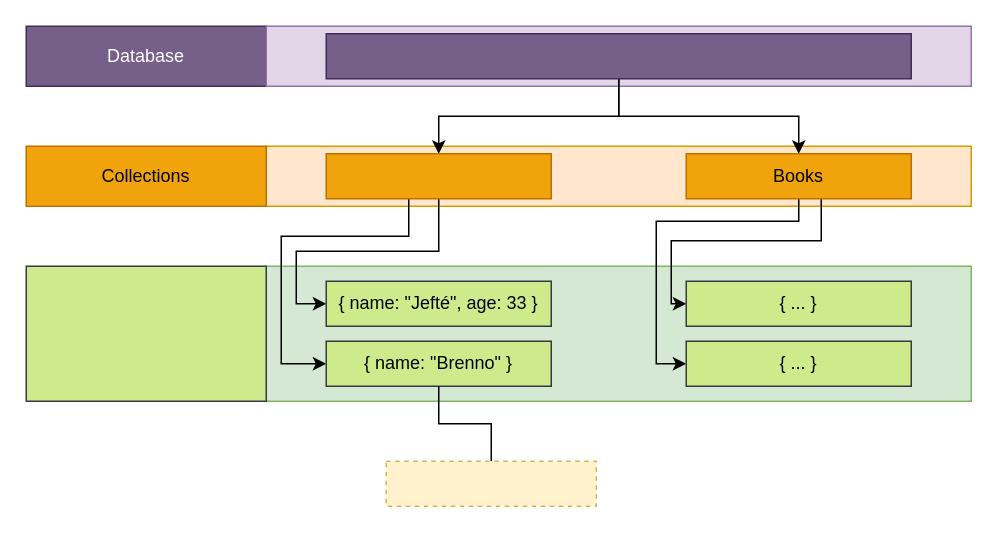
The diagram is 998 pixels wide and 533 high, and some of its shapes have lost their labels. Here are the shapes that lost their labels. From the top down, the box of each, then its label:
(325, 32, 911, 79): book_store
(325, 152, 551, 199): Users
(25, 265, 266, 401): Documents
(385, 460, 596, 506): Schemaless structure
